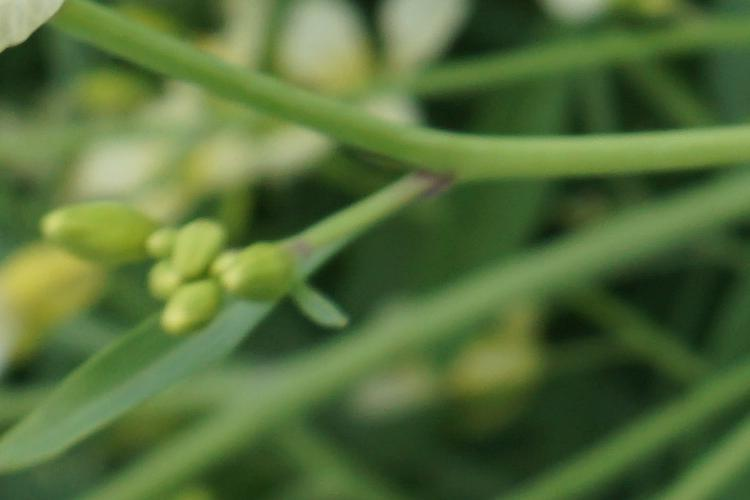bud: (23, 198, 161, 262), (222, 241, 313, 311), (155, 276, 232, 346), (167, 213, 229, 283), (141, 257, 198, 303), (139, 221, 180, 259)
